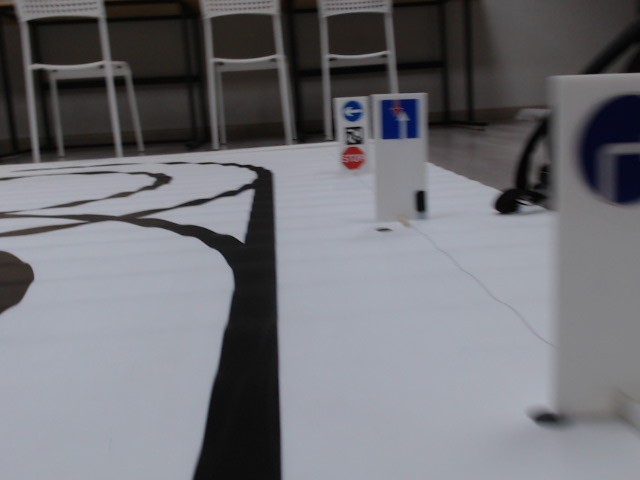Stop: (340, 146, 366, 169)
priority_movement: (377, 98, 422, 141)
